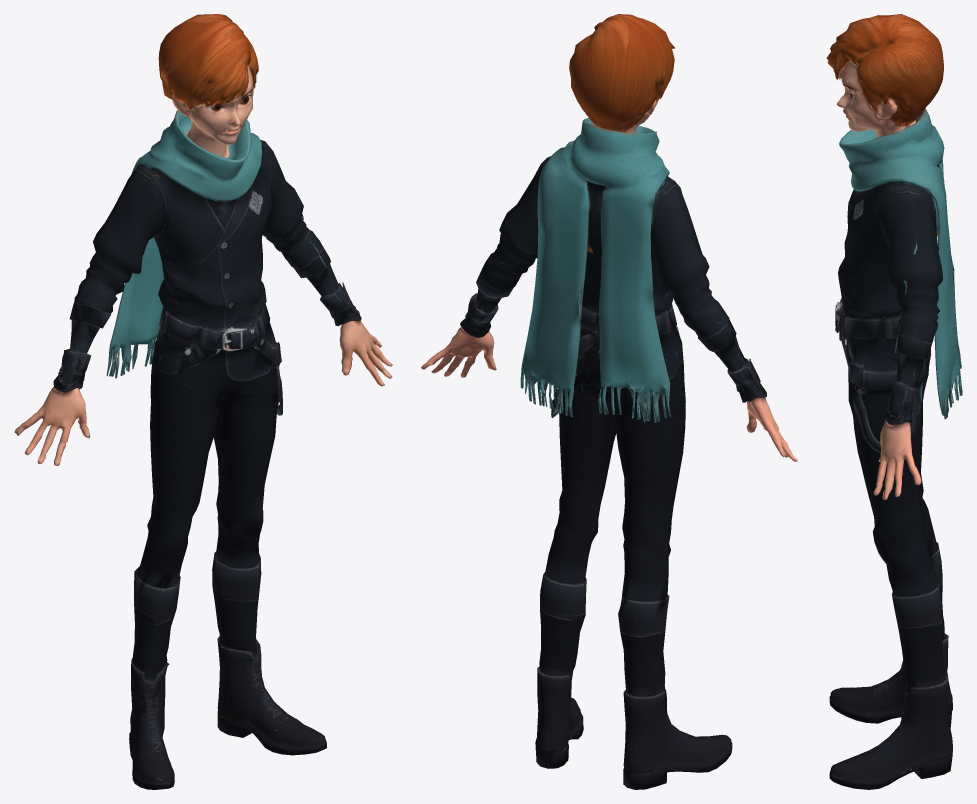
The model's file is hero_sombra.glb.
3 renders of one model, left to right at view 1: azimuth 30°, elevation 25°; view 2: azimuth 150°, elevation 25°; view 3: azimuth 270°, elevation 25°, orthographic.
Size of the model in its own units: 0.4946 by 0.9507 by 0.1606.
Materials: 1 (1 with a texture image).
